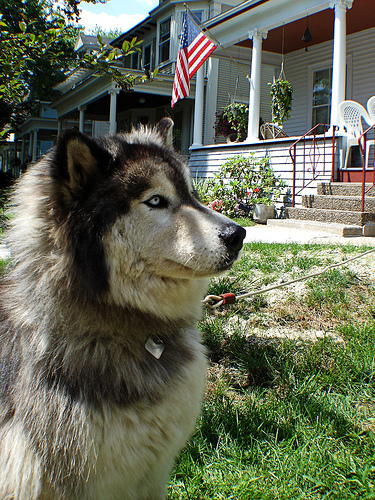dog: (0, 115, 246, 498)
